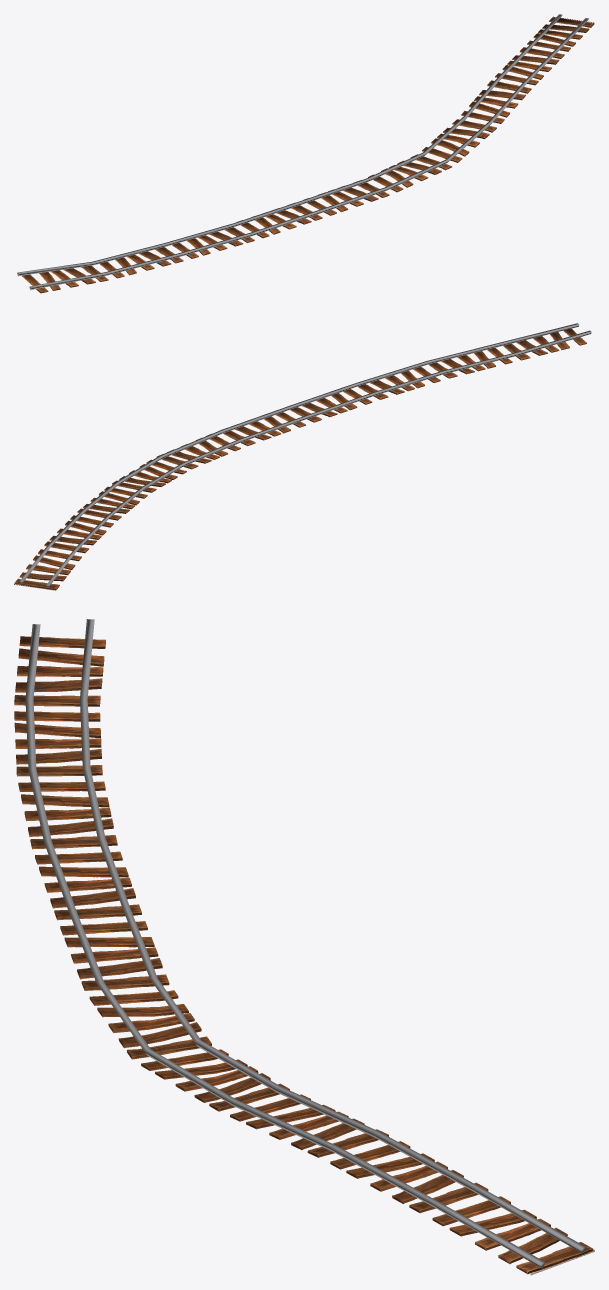
File: SWORDLIGHT20_MAIN1RAILS1WEXT.fbx
The picture shows the model from 3 angles, top to bottom: view 1: azimuth 30°, elevation 25°; view 2: azimuth 210°, elevation 25°; view 3: azimuth 270°, elevation 25°; orthographic projection. The views are drawn at different scales.
Parts seen in each view (by area): view 1: SWORDLIGHT20_MAIN1RAILS1WEXT; view 2: SWORDLIGHT20_MAIN1RAILS1WEXT; view 3: SWORDLIGHT20_MAIN1RAILS1WEXT.
Boxes of the visible parts, <box> form: SWORDLIGHT20_MAIN1RAILS1WEXT: <box>17,14,594,293</box>; SWORDLIGHT20_MAIN1RAILS1WEXT: <box>14,323,591,590</box>; SWORDLIGHT20_MAIN1RAILS1WEXT: <box>14,619,594,1275</box>.
Bounding box in the file's own units: 292814 × 6985 × 109781.
2 materials, 2 textured.
